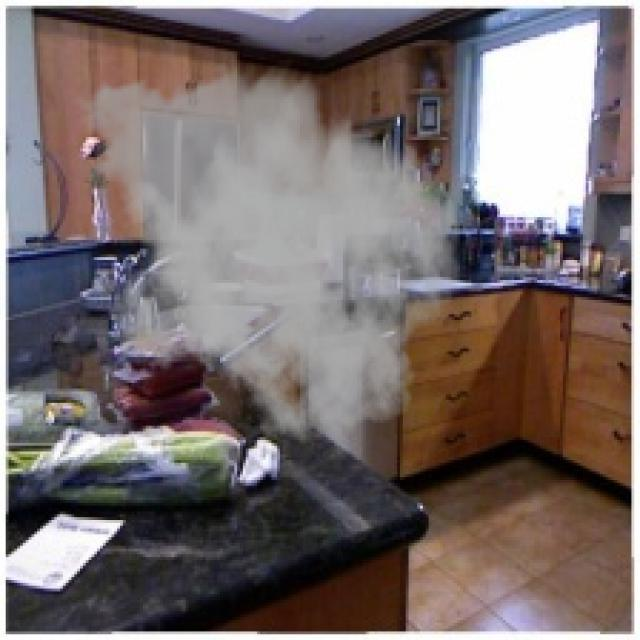Smoke: (68, 57, 463, 457)
